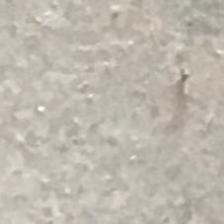Non_Crack: (55, 20, 196, 182)
